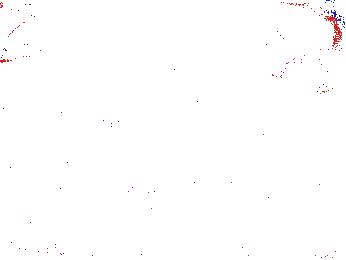moon jellyfish: (78, 8, 178, 124), (251, 11, 346, 104), (1, 14, 94, 64)
